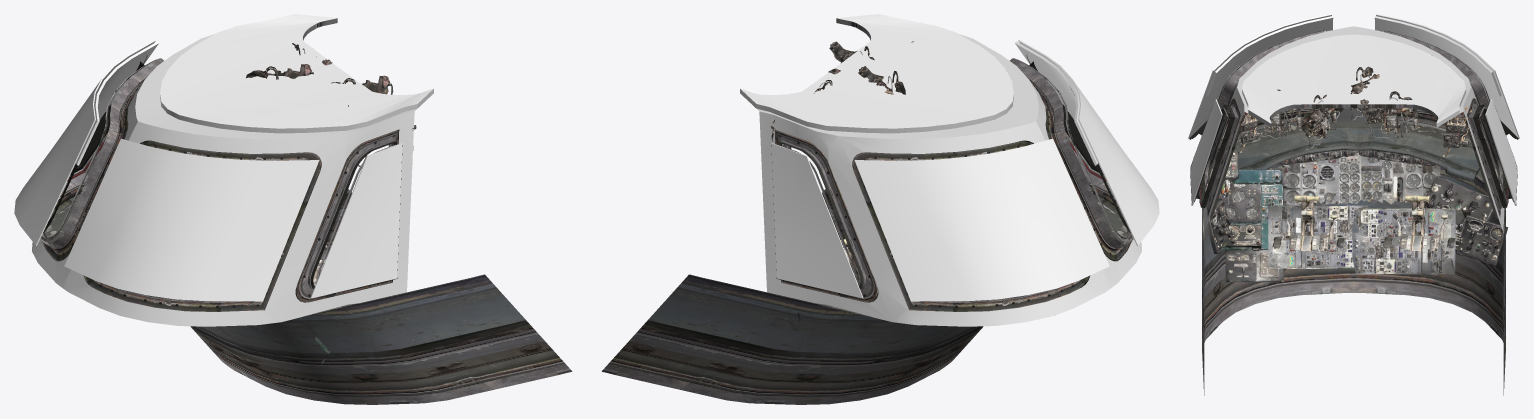
The model's file is spaceship-transformed.glb.
3 renders of one model, left to right at view 1: azimuth 30°, elevation 25°; view 2: azimuth 150°, elevation 25°; view 3: azimuth 270°, elevation 25°, orthographic. The views are drawn at different scales.
Visible parts, largest first — view 1: Cockpit, Ceiling 1; view 2: Cockpit, Ceiling 1; view 3: Cockpit, Dashboard 2, Dashboard, Dashboard 3, Radio, Ceiling 1, Controls, Ceiling 2, Dashboard 4.
Part boxes in pixels (box(x1,y1,x2,y2)): Cockpit: box(14, 14, 572, 404); Ceiling 1: box(246, 43, 393, 166); Cockpit: box(601, 14, 1159, 404); Ceiling 1: box(814, 41, 913, 94); Cockpit: box(1188, 14, 1519, 395); Dashboard 2: box(1225, 157, 1455, 274); Dashboard: box(1215, 126, 1479, 253); Dashboard 3: box(1220, 151, 1283, 282); Radio: box(1206, 176, 1508, 266); Ceiling 1: box(1249, 66, 1418, 148); Controls: box(1272, 195, 1455, 251); Ceiling 2: box(1238, 107, 1472, 157); Dashboard 4: box(1275, 149, 1440, 167).
Size of the model in its own units: 7.82 by 4.99 by 6.01.
Materials: 17 (16 with a texture image).
